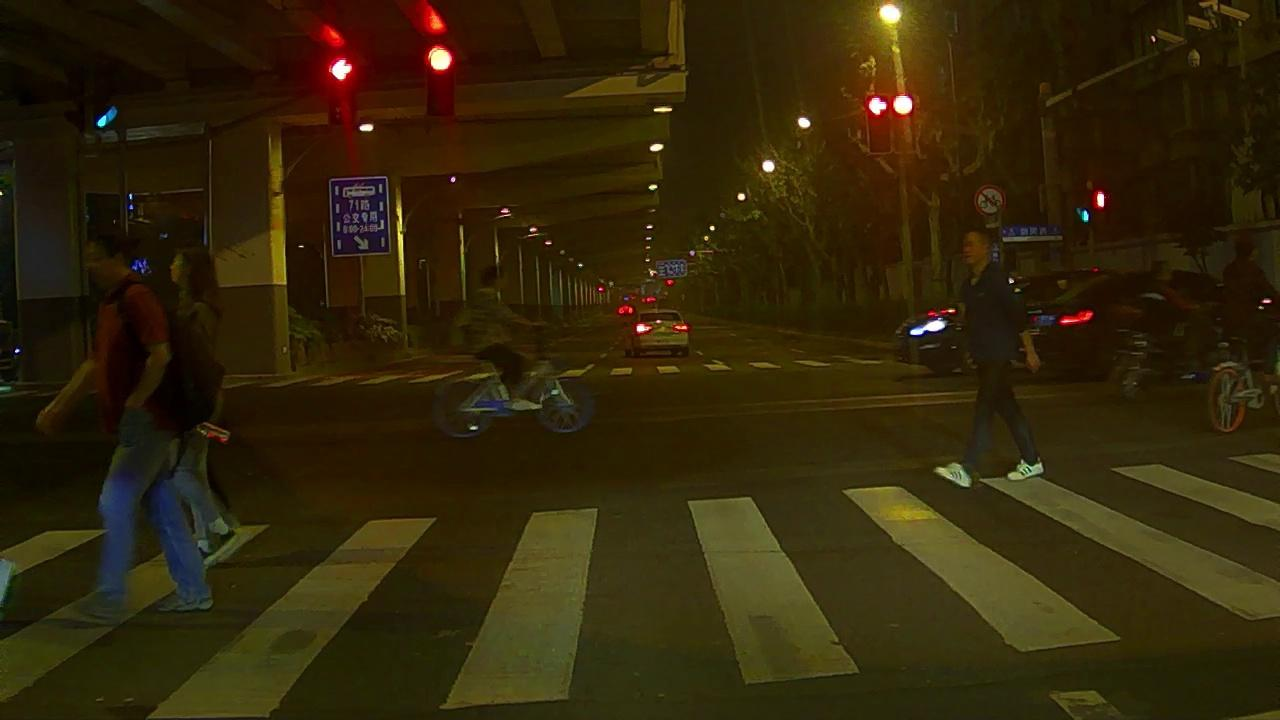traffic_light: (429, 45, 453, 111), (330, 58, 355, 120), (891, 97, 913, 153), (868, 98, 888, 152)
